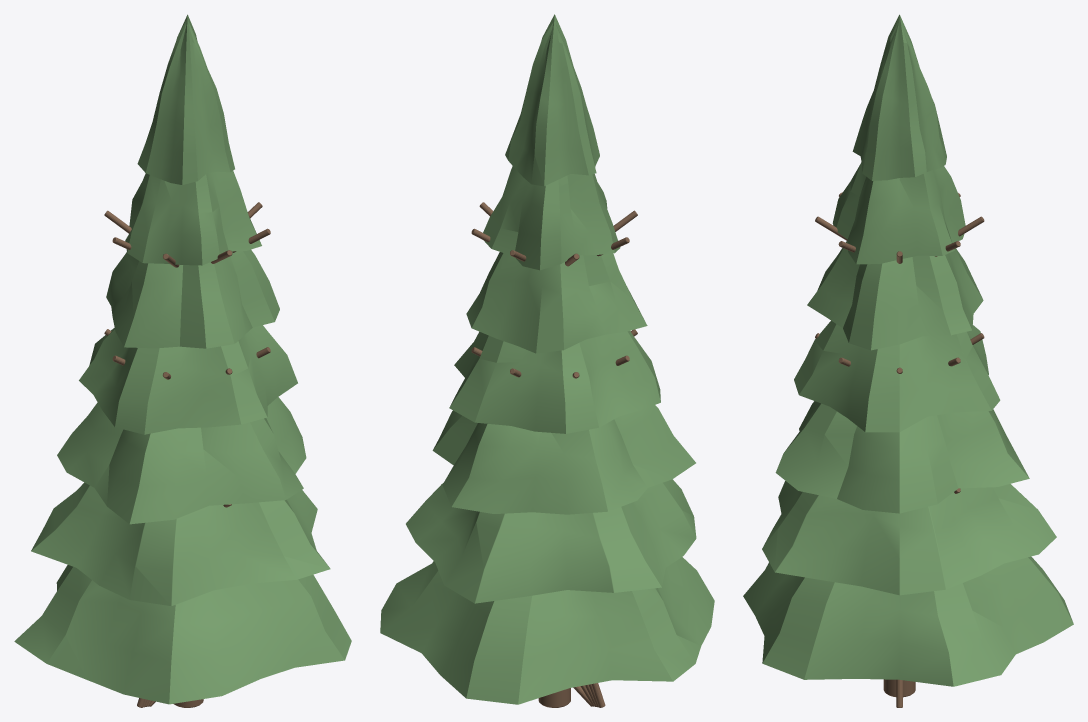
File: tree_conifer_01.glb
The picture shows the model from 3 angles, left to right: view 1: azimuth 30°, elevation 25°; view 2: azimuth 150°, elevation 25°; view 3: azimuth 270°, elevation 25°; orthographic projection.
Parts seen in each view (by area): view 1: Canopy_Mesh, Trunk_Mesh; view 2: Canopy_Mesh, Trunk_Mesh; view 3: Canopy_Mesh, Trunk_Mesh.
Boxes of the visible parts, x1=… form: Canopy_Mesh: x1=14, y1=14, x2=351, y2=704; Trunk_Mesh: x1=104, y1=202, x2=270, y2=707; Canopy_Mesh: x1=380, y1=14, x2=714, y2=704; Trunk_Mesh: x1=471, y1=202, x2=637, y2=707; Canopy_Mesh: x1=743, y1=14, x2=1073, y2=686; Trunk_Mesh: x1=815, y1=192, x2=984, y2=707.
Bounding box in the file's own units: 5.58 × 12.56 × 5.56.
